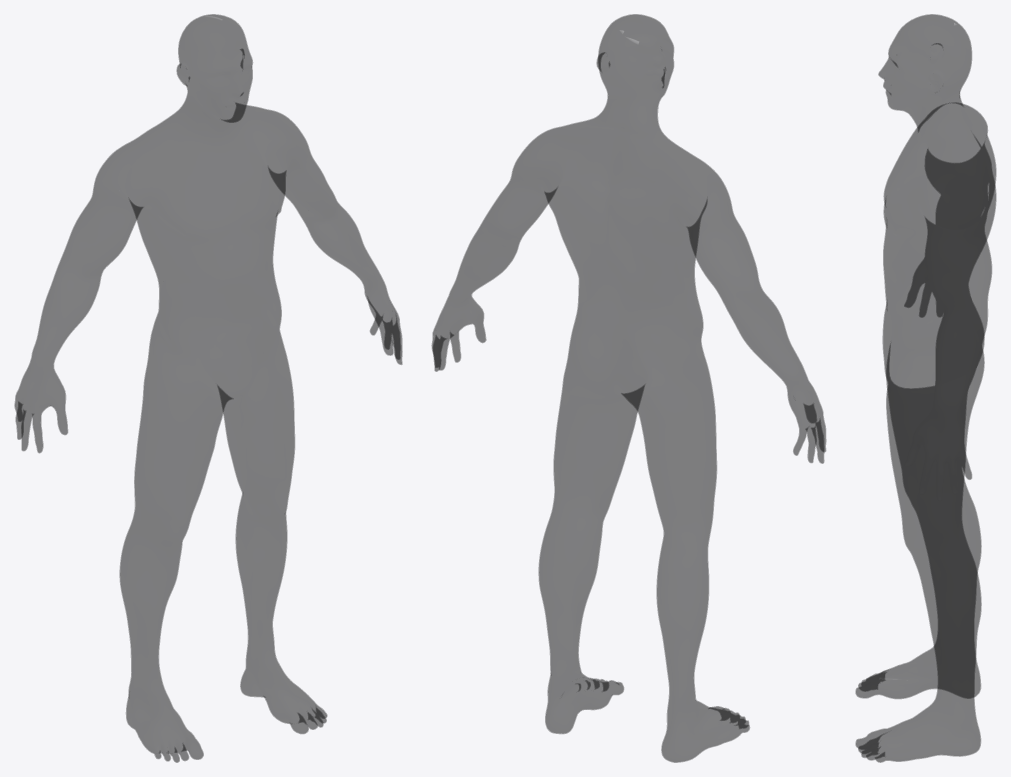
The model's file is Human_02.glb.
3 renders of one model, left to right at view 1: azimuth 30°, elevation 25°; view 2: azimuth 150°, elevation 25°; view 3: azimuth 270°, elevation 25°, orthographic.
Visible parts, largest first — view 1: FinalBaseMesh; view 2: FinalBaseMesh; view 3: FinalBaseMesh.
Boxes of the visible parts, x1=… form: FinalBaseMesh: x1=14, y1=14, x2=402, y2=762; FinalBaseMesh: x1=431, y1=14, x2=826, y2=762; FinalBaseMesh: x1=855, y1=14, x2=996, y2=762.
Size of the model in its own units: 1.28 by 2.27 by 0.4112.
1 material, 1 textured.
